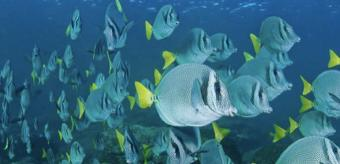Acanthuridae -Surgeonfishes-: (134, 57, 239, 126), (244, 11, 304, 54), (161, 25, 217, 70), (251, 136, 340, 164), (219, 73, 273, 118), (163, 114, 209, 164), (298, 66, 340, 111), (113, 120, 154, 164), (100, 0, 133, 51), (143, 2, 181, 42), (76, 85, 116, 120), (287, 108, 336, 135), (0, 66, 20, 103), (323, 40, 340, 80), (54, 89, 74, 121), (66, 6, 84, 41), (64, 139, 87, 164), (57, 120, 75, 143)
